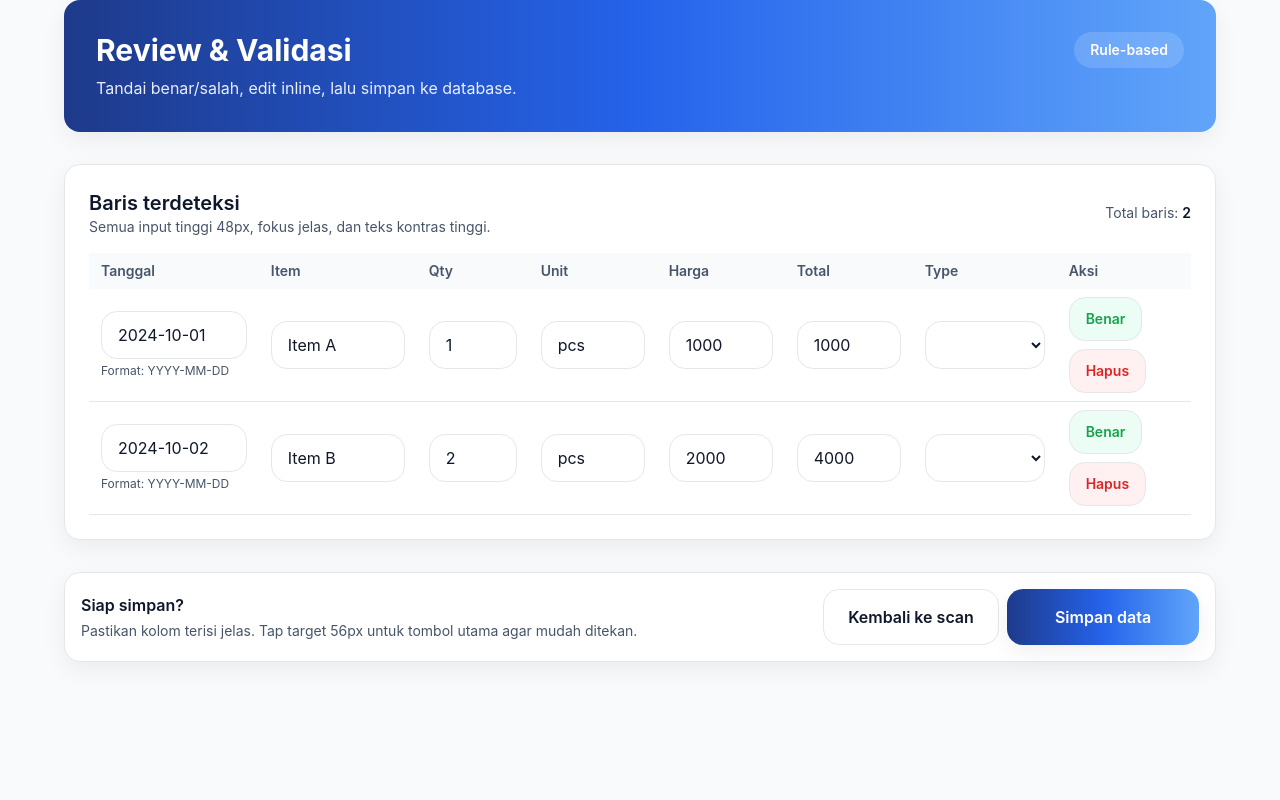
it: Review page › removes a row when delete is clicked
Click the 1st button "Hapus": (1107, 371) [1069,349,1146,393]
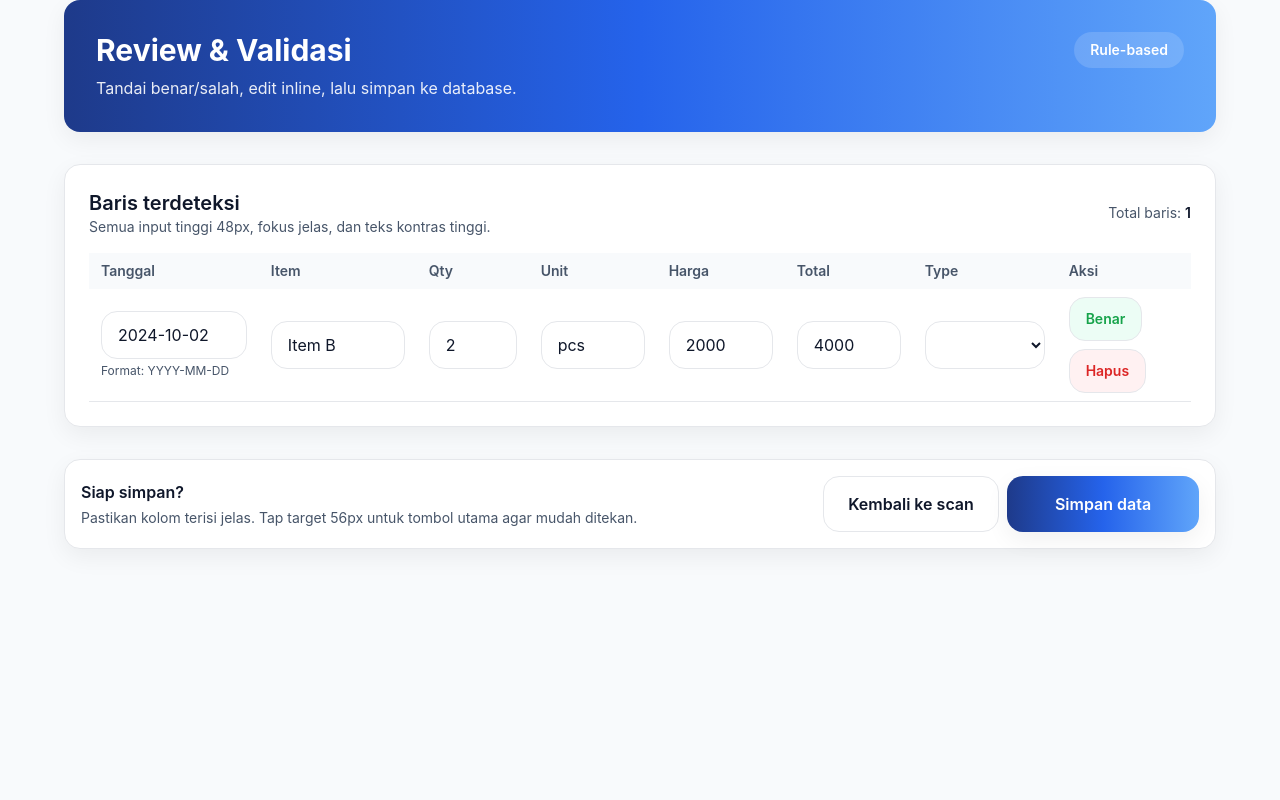
expect the field showing "Item A" is not shown: met
expect the 2nd field showing "Item B" is shown: met, box [271,321,405,369]
